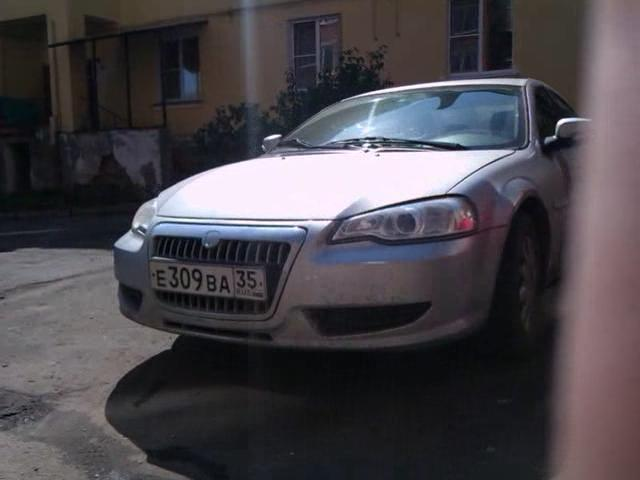license-plateSW: (149, 260, 269, 302)
